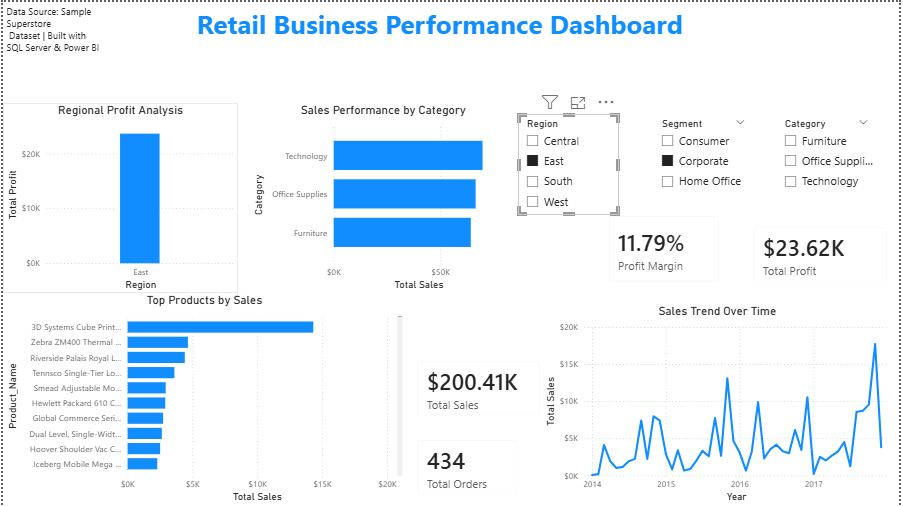

What the dashboard file says about the page in this screenshot:
{"tool":"powerbi","page":{"name":"Page 1","canvas":[1280,720],"ordinal":0},"visuals":[{"type":"cardVisual","fields":{"Data":["retail_sales_clean.Total Sales"]},"box":[576,496,208,112],"z":0},{"type":"cardVisual","fields":{"Data":["retail_sales_clean.Total Profit"]},"box":[1056,304,224,112],"z":1},{"type":"cardVisual","fields":{"Data":["retail_sales_clean.Total Orders"]},"box":[576,608,176,112],"z":2},{"type":"cardVisual","fields":{"Data":["retail_sales_clean.Profit Margin"]},"box":[848,288,192,128],"z":3},{"type":"clusteredBarChart","title":"Sales Performance by Category","fields":{"Category":["retail_sales_clean.Category"],"Y":["retail_sales_clean.Total Sales"]},"box":[352,144,384,272],"z":4},{"type":"clusteredColumnChart","title":"Regional Profit Analysis","fields":{"Category":["retail_sales_clean.Region"],"Y":["retail_sales_clean.Total Profit"]},"box":[0,144,336,272],"z":5},{"type":"lineChart","title":"Sales Trend Over Time","fields":{"Y":["retail_sales_clean.Total Sales"],"Category":["retail_sales_clean.Order_Date.Variation.Date Hierarchy.Year","retail_sales_clean.Order_Date.Variation.Date Hierarchy.Month"]},"box":[768,432,504,288],"z":6},{"type":"barChart","title":"Top Products by Sales","fields":{"Category":["retail_sales_clean.Product_Name"],"Y":["retail_sales_clean.Total Sales"]},"box":[0,416,576,304],"z":7},{"type":"slicer","fields":{"Values":["retail_sales_clean.Region"]},"box":[736,160,144,144],"z":8},{"type":"slicer","fields":{"Values":["retail_sales_clean.Segment"]},"box":[928,160,144,144],"z":9},{"type":"slicer","fields":{"Values":["retail_sales_clean.Category"]},"box":[1104,160,144,144],"z":10},{"type":"textbox","box":[0,0,1248,64],"z":11},{"type":"textbox","box":[0,0,192,80],"z":12}]}

Visuals, with their boxes in screenshot pixels (x1, y1, x2, y2), scaled from the page's 1280x720 canvas onto the 903x506 screenshot:
cardVisual - retail_sales_clean.Total Sales: left=406, top=349, right=553, bottom=427
cardVisual - retail_sales_clean.Total Profit: left=745, top=214, right=902, bottom=292
cardVisual - retail_sales_clean.Total Orders: left=406, top=427, right=531, bottom=505
cardVisual - retail_sales_clean.Profit Margin: left=598, top=202, right=734, bottom=292
"Sales Performance by Category" clusteredBarChart: left=248, top=101, right=519, bottom=292
"Regional Profit Analysis" clusteredColumnChart: left=0, top=101, right=237, bottom=292
"Sales Trend Over Time" lineChart: left=542, top=304, right=897, bottom=505
"Top Products by Sales" barChart: left=0, top=292, right=406, bottom=505
slicer - retail_sales_clean.Region: left=519, top=112, right=621, bottom=214
slicer - retail_sales_clean.Segment: left=655, top=112, right=756, bottom=214
slicer - retail_sales_clean.Category: left=779, top=112, right=880, bottom=214
textbox: left=0, top=0, right=880, bottom=45
textbox: left=0, top=0, right=135, bottom=56
